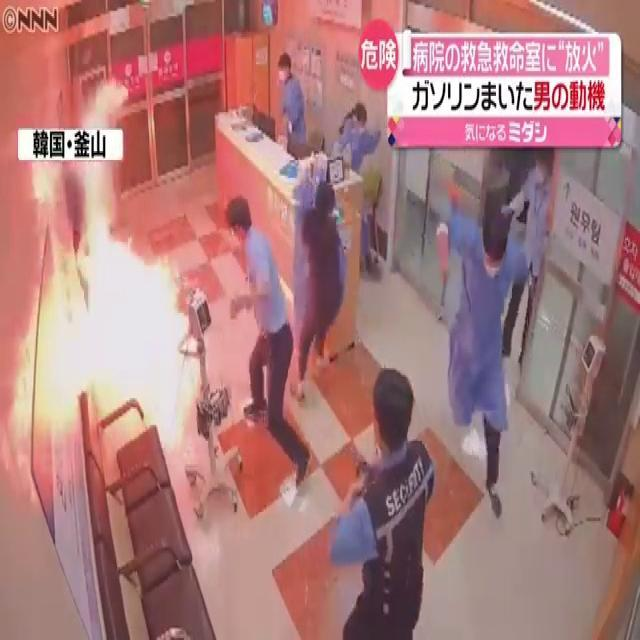Fire: (2, 152, 202, 454)
